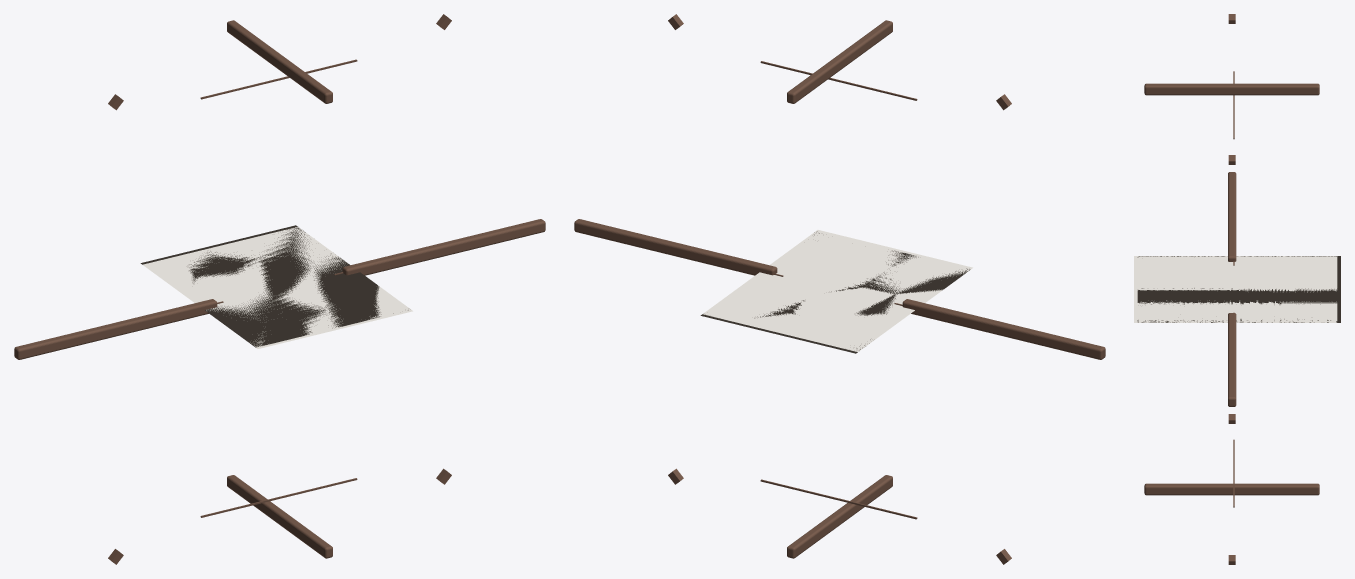
The model's file is artwork-frame.glb.
The picture shows the model from 3 angles, left to right: view 1: azimuth 30°, elevation 25°; view 2: azimuth 150°, elevation 25°; view 3: azimuth 270°, elevation 25°; orthographic projection. The views are drawn at different scales.
Parts seen in each view (by area): view 1: TopBorder; view 2: TopBorder; view 3: TopBorder.
Part boxes in pixels (left/top/right/bottom): TopBorder: left=14, top=14, right=545, bottom=564; TopBorder: left=574, top=14, right=1105, bottom=564; TopBorder: left=1134, top=14, right=1340, bottom=564.
Bounding box in the file's own units: 2.99 × 2.52 × 1.15.
